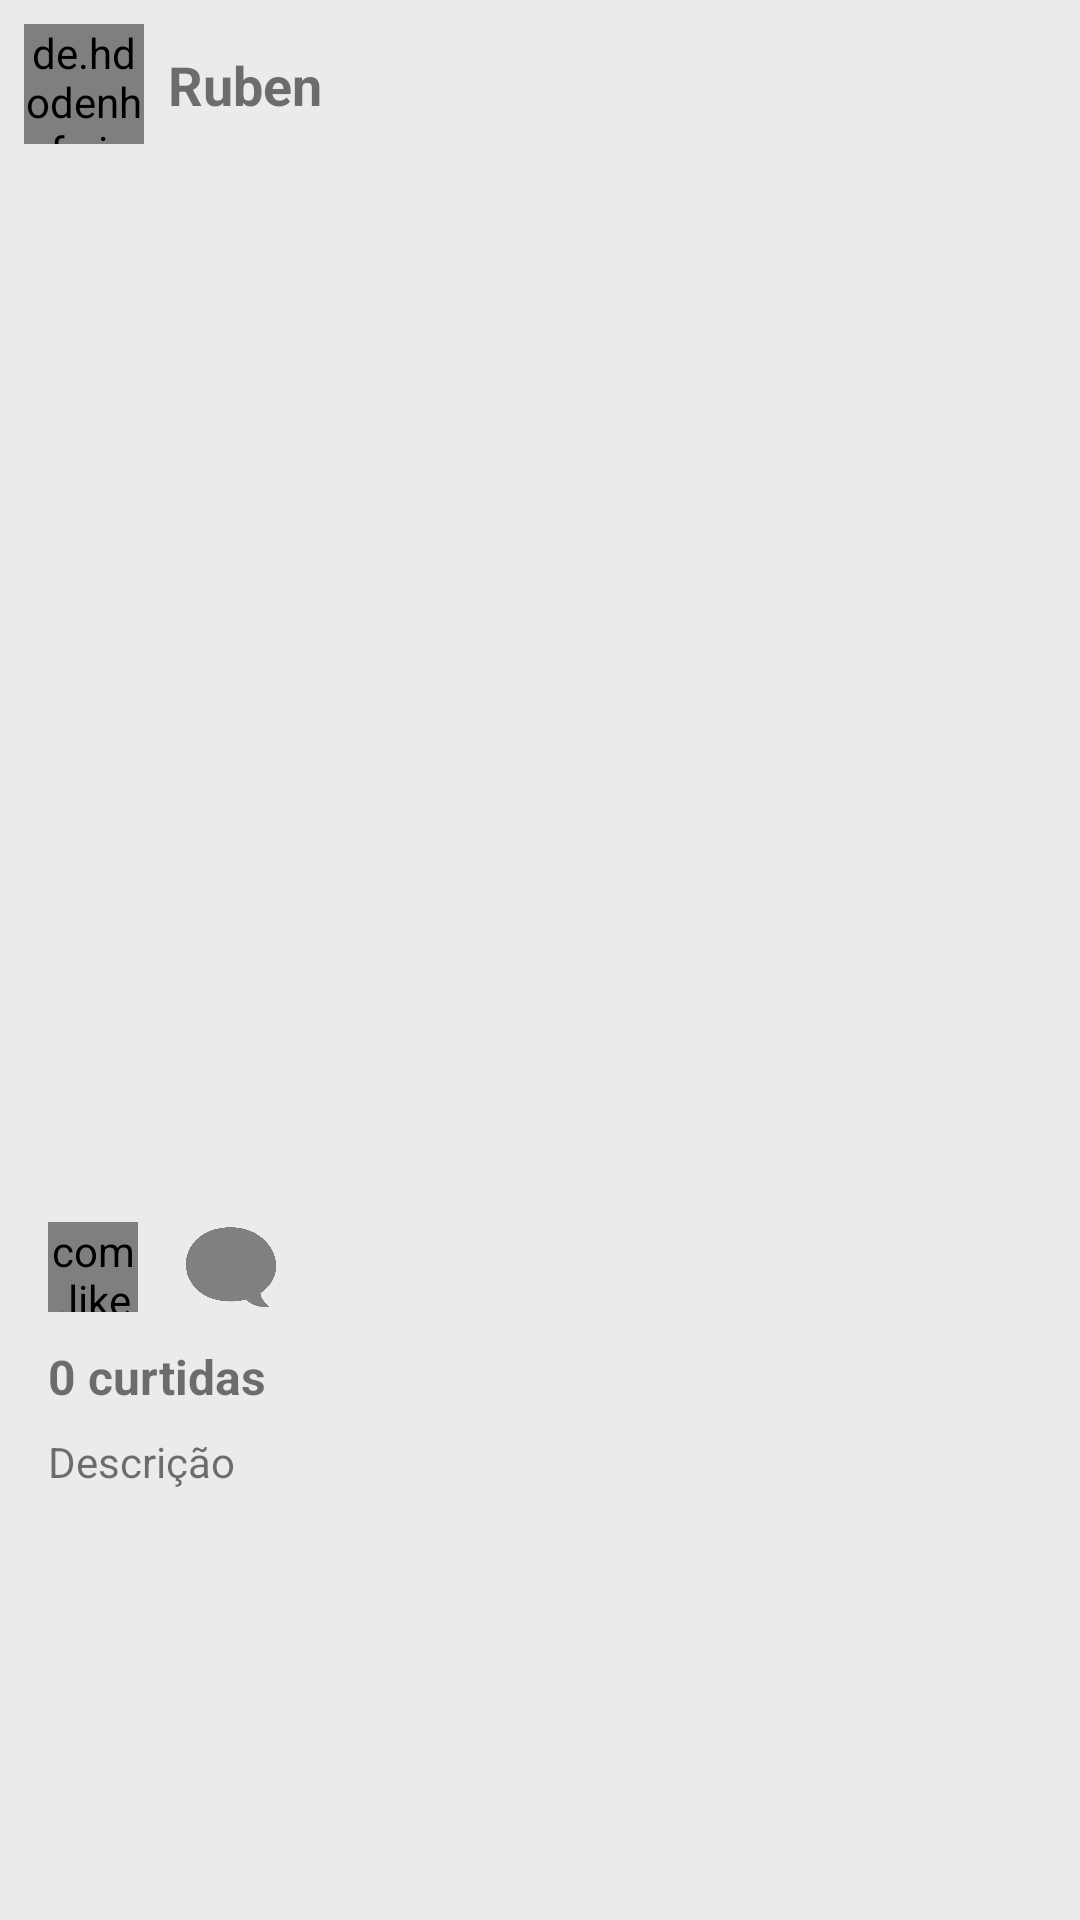

Locate icon controls on the screen. Image size 1080 x 1920, boxes as [x1,y1,x2,y2].
comente: [186,1227,276,1307]
